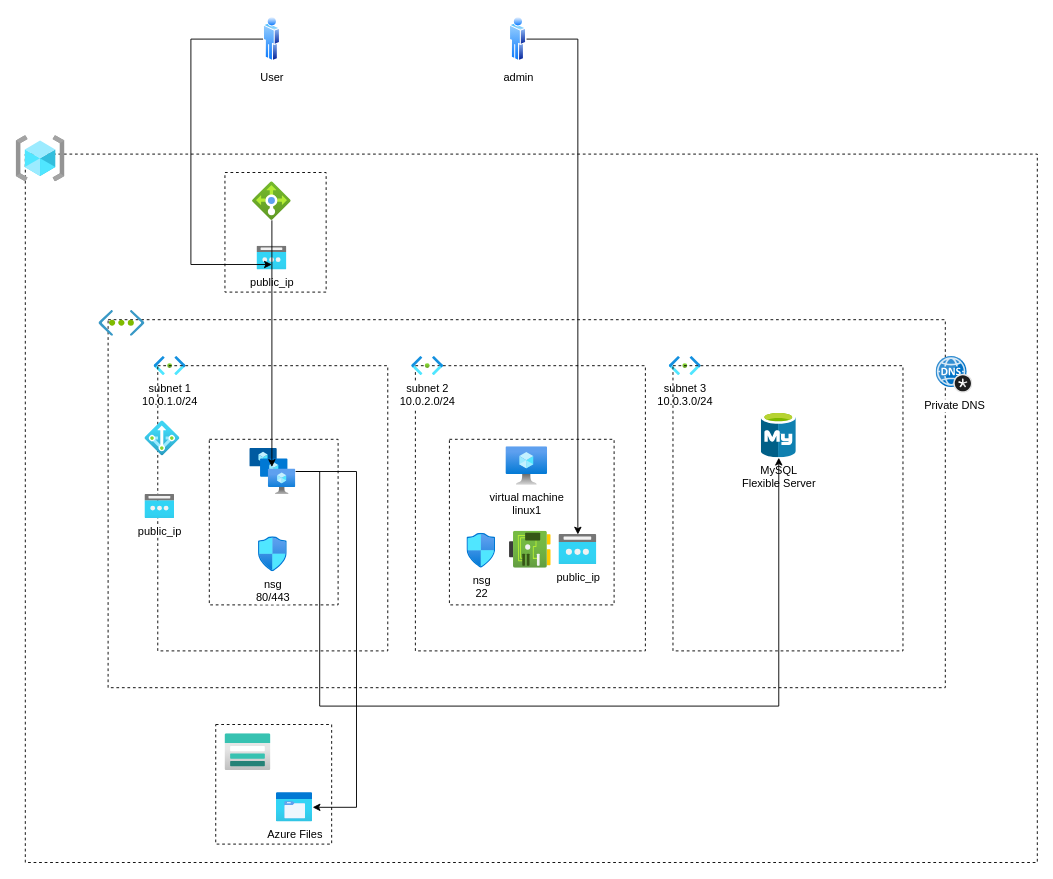
Some shapes in this 1053 by 879 pixel diagram are drawn without their labels. Each missing label, with the box of its shape:
lb: (252, 181, 291, 220)
NAT gateway: (144, 420, 179, 455)
nic vm1: (509, 531, 551, 568)
rg appx: (16, 135, 64, 181)
storage account: (224, 733, 270, 770)
virtual machine scale sets: (249, 448, 295, 494)
VNET 10.0.0.0/16: (98, 310, 144, 336)
